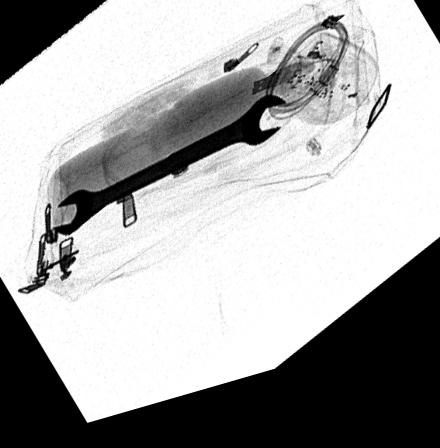Wrench: (47, 108, 290, 243)
